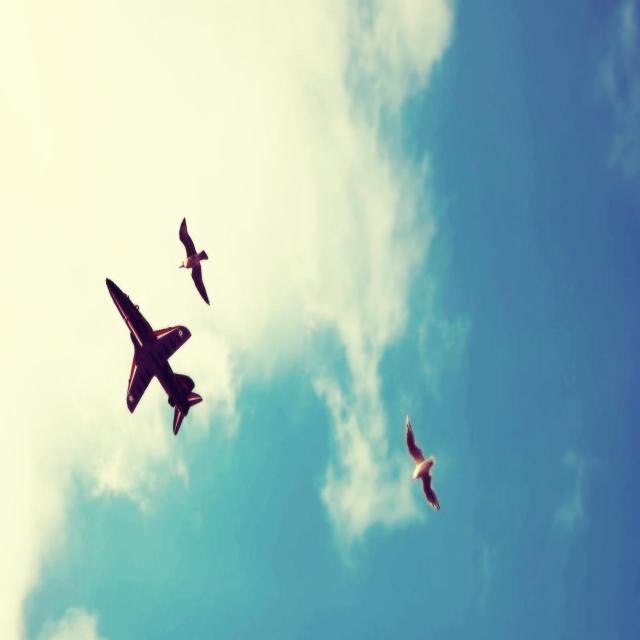airplane: (105, 276, 203, 436)
